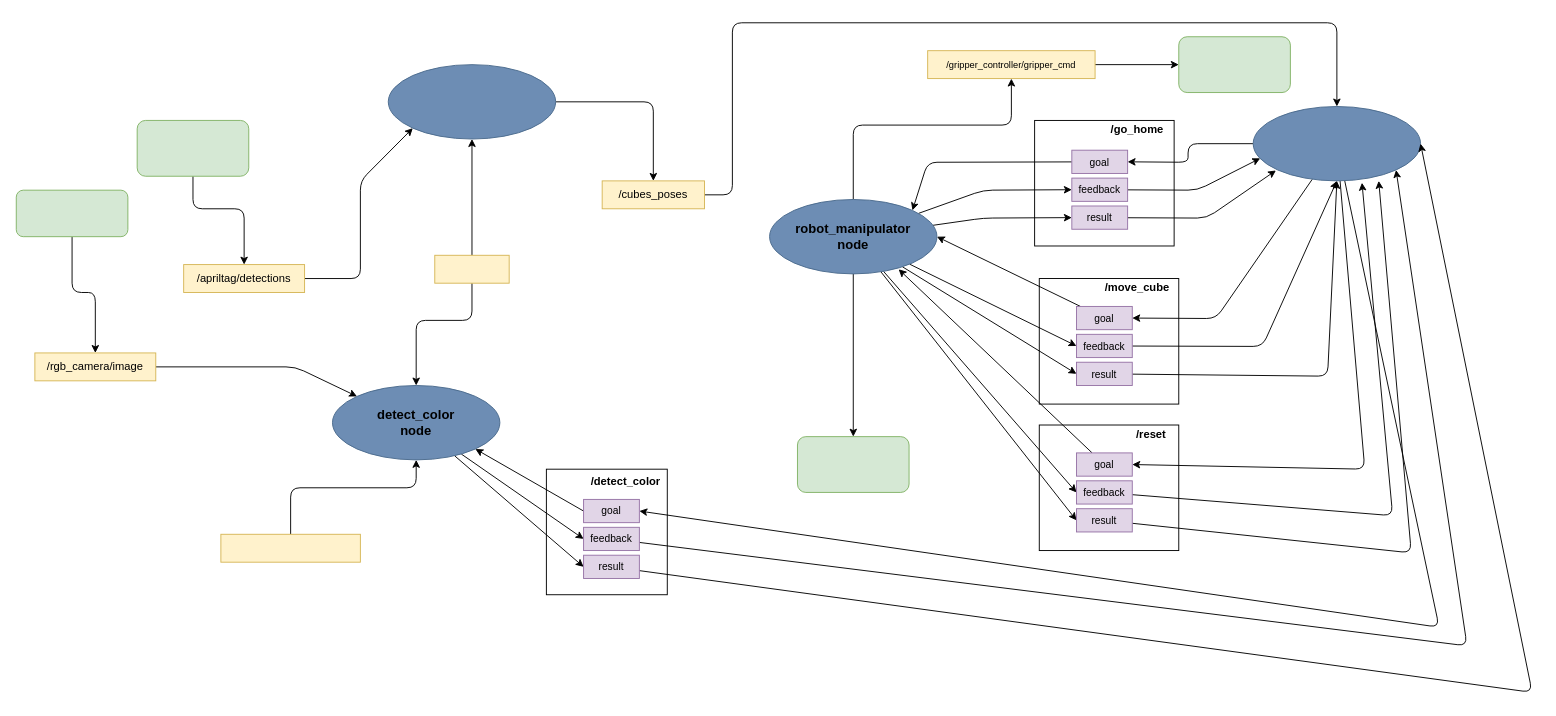
This 1556x716 diagram has some shape labels left out. The centre of each missing label's shape, as x and y in pixels:
"/rgb_camera/camera_info" belongs at pixel 290 547.
"/tf" belongs at pixel 471 268.
"AprilTag Node" belongs at pixel 192 148.
"find_cubes_position node" belongs at pixel 471 101.
"MoveIt 2" belongs at pixel 853 464.
"RGB Camera" belongs at pixel 71 213.
"Robot Base" belongs at pixel 1234 64.
"robot_controller_bt node" belongs at pixel 1336 143.
